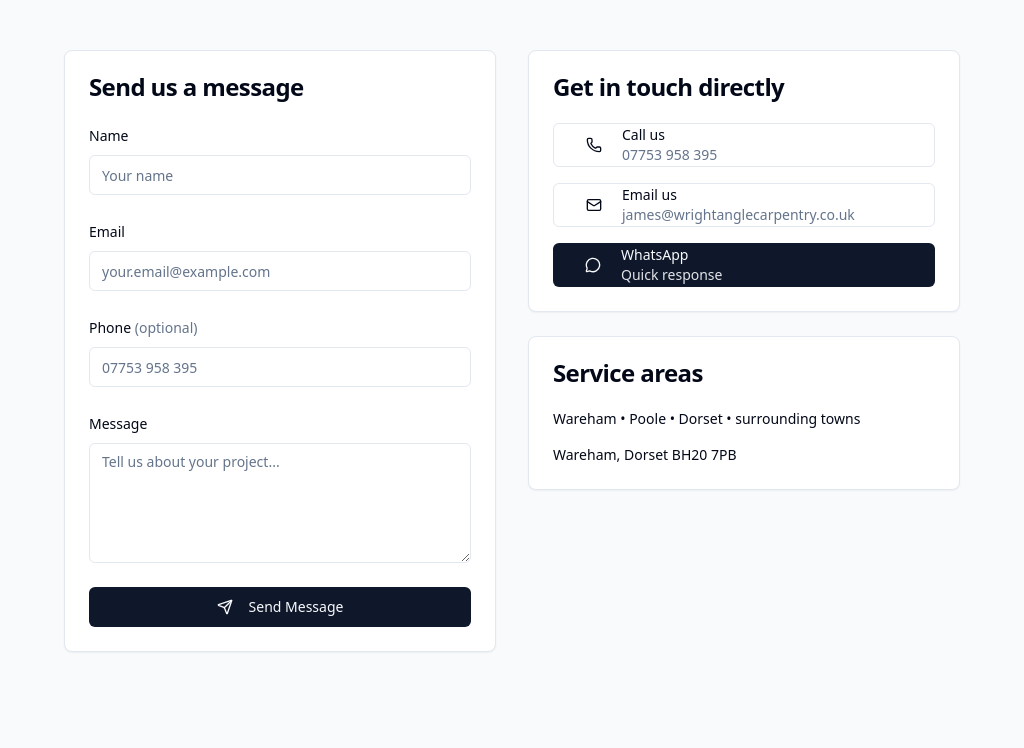
Test case: Contact Component - Web3Forms Integration › should validate required fields before submission
The image size is (1024, 748).
(page scrolled)
Try to submit empty form
Click the button "Send Message" at {"x": 280, "y": 607}, box [89,587,471,627]
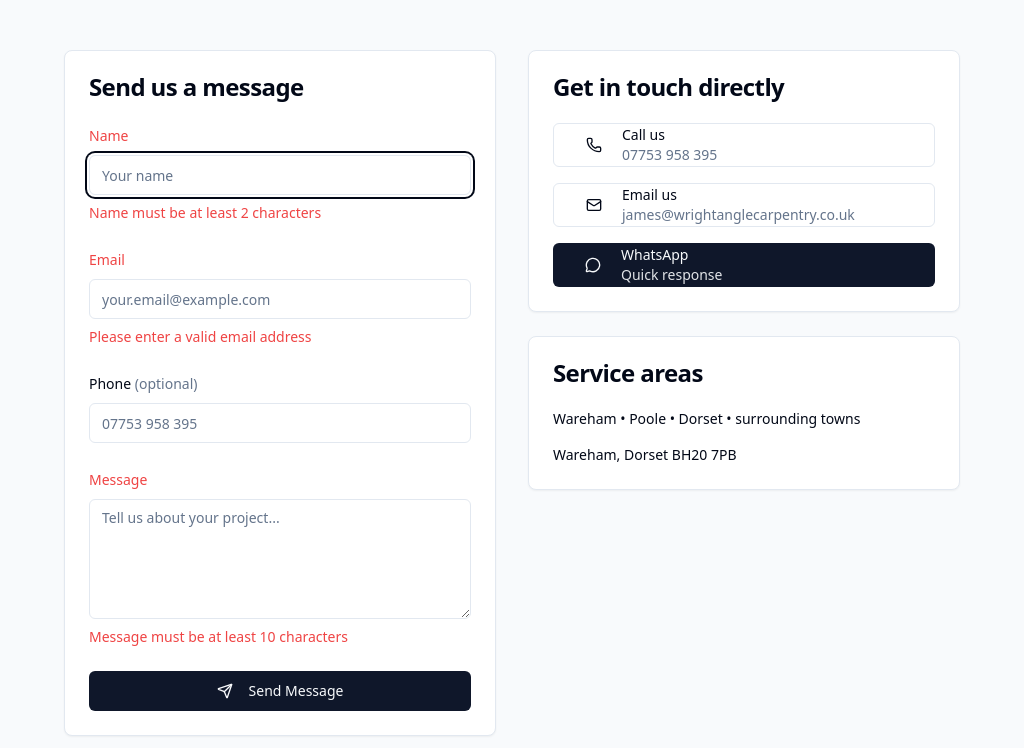
Result: the text "Name must be at least 2 characters" is shown at [89,203,321,222]
Result: the text "Please enter a valid email address" is shown at [89,327,312,346]
Result: the text "Message must be at least 10 characters" is shown at [89,627,348,646]
